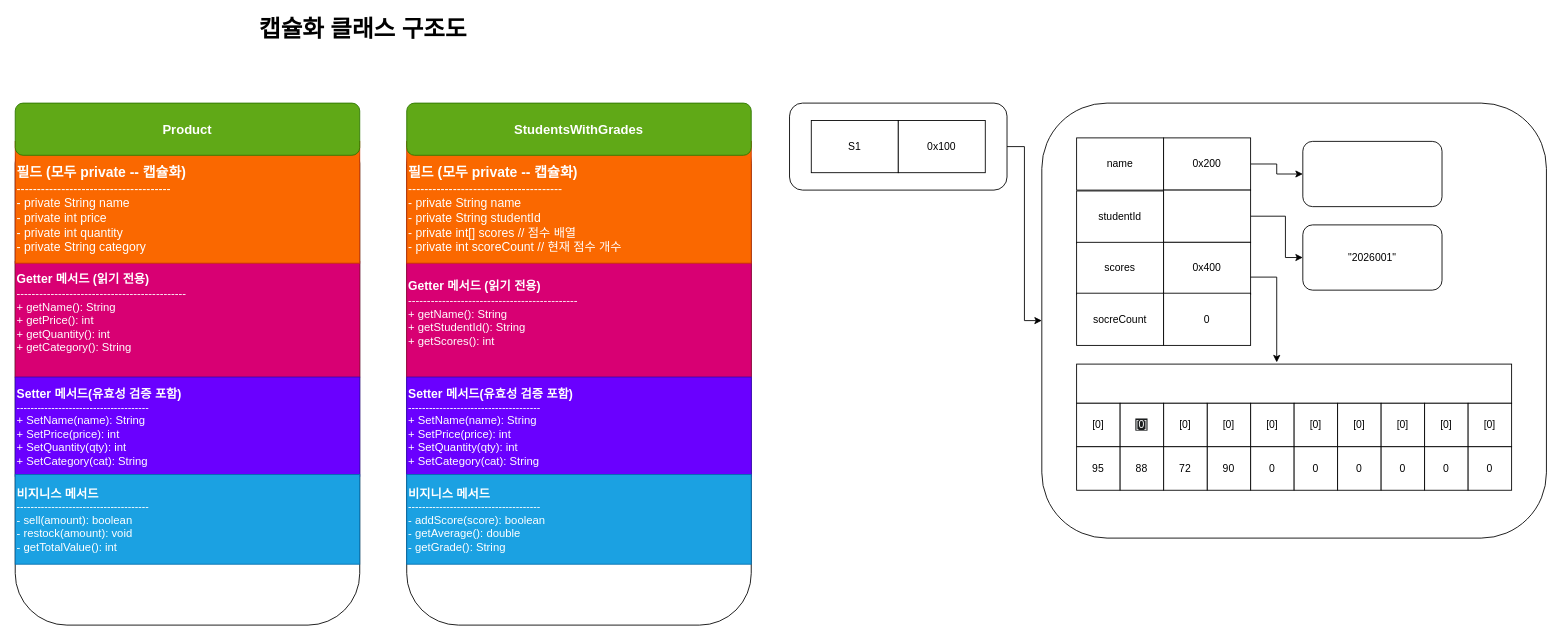
Image size: 1562x640. Some labels were removed from this diagram. The box of each missing label's shape, as (x1, y1, x2, y2) in pixels:
"이순신": (1302, 141, 1442, 207)
0x300: (1163, 189, 1251, 242)
int[] 배열 (0x400): (1076, 363, 1512, 403)
